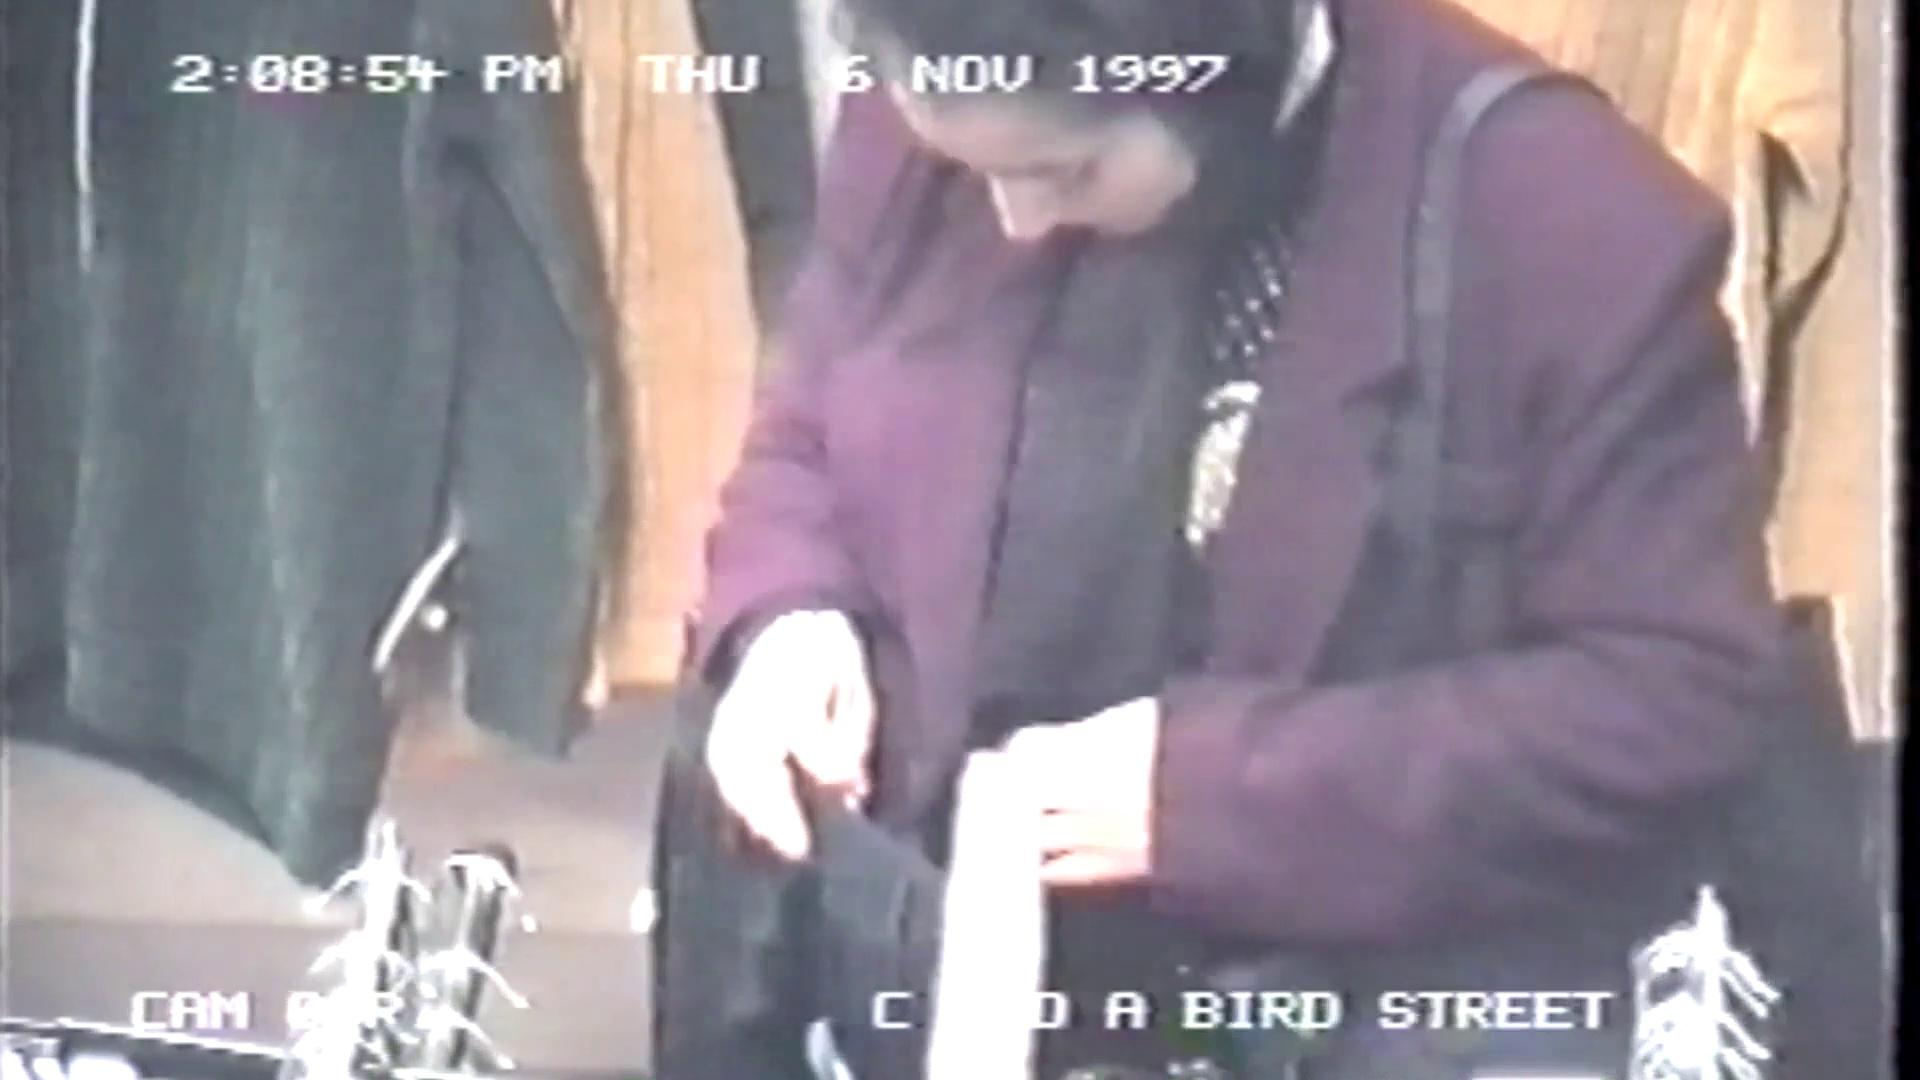Customer-Bagpack: (1535, 588, 1920, 1080)
Product: (666, 742, 1373, 1080)
Product-Picked: (608, 0, 1908, 1080)
